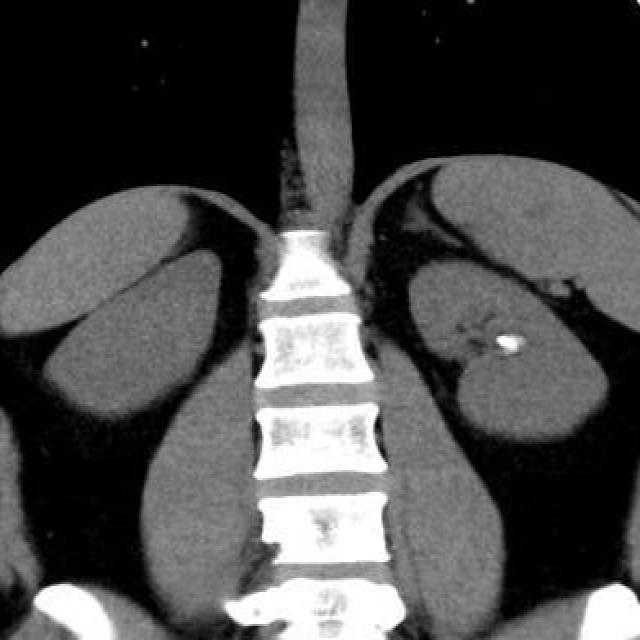Tas_Var: (494, 330, 520, 354)
